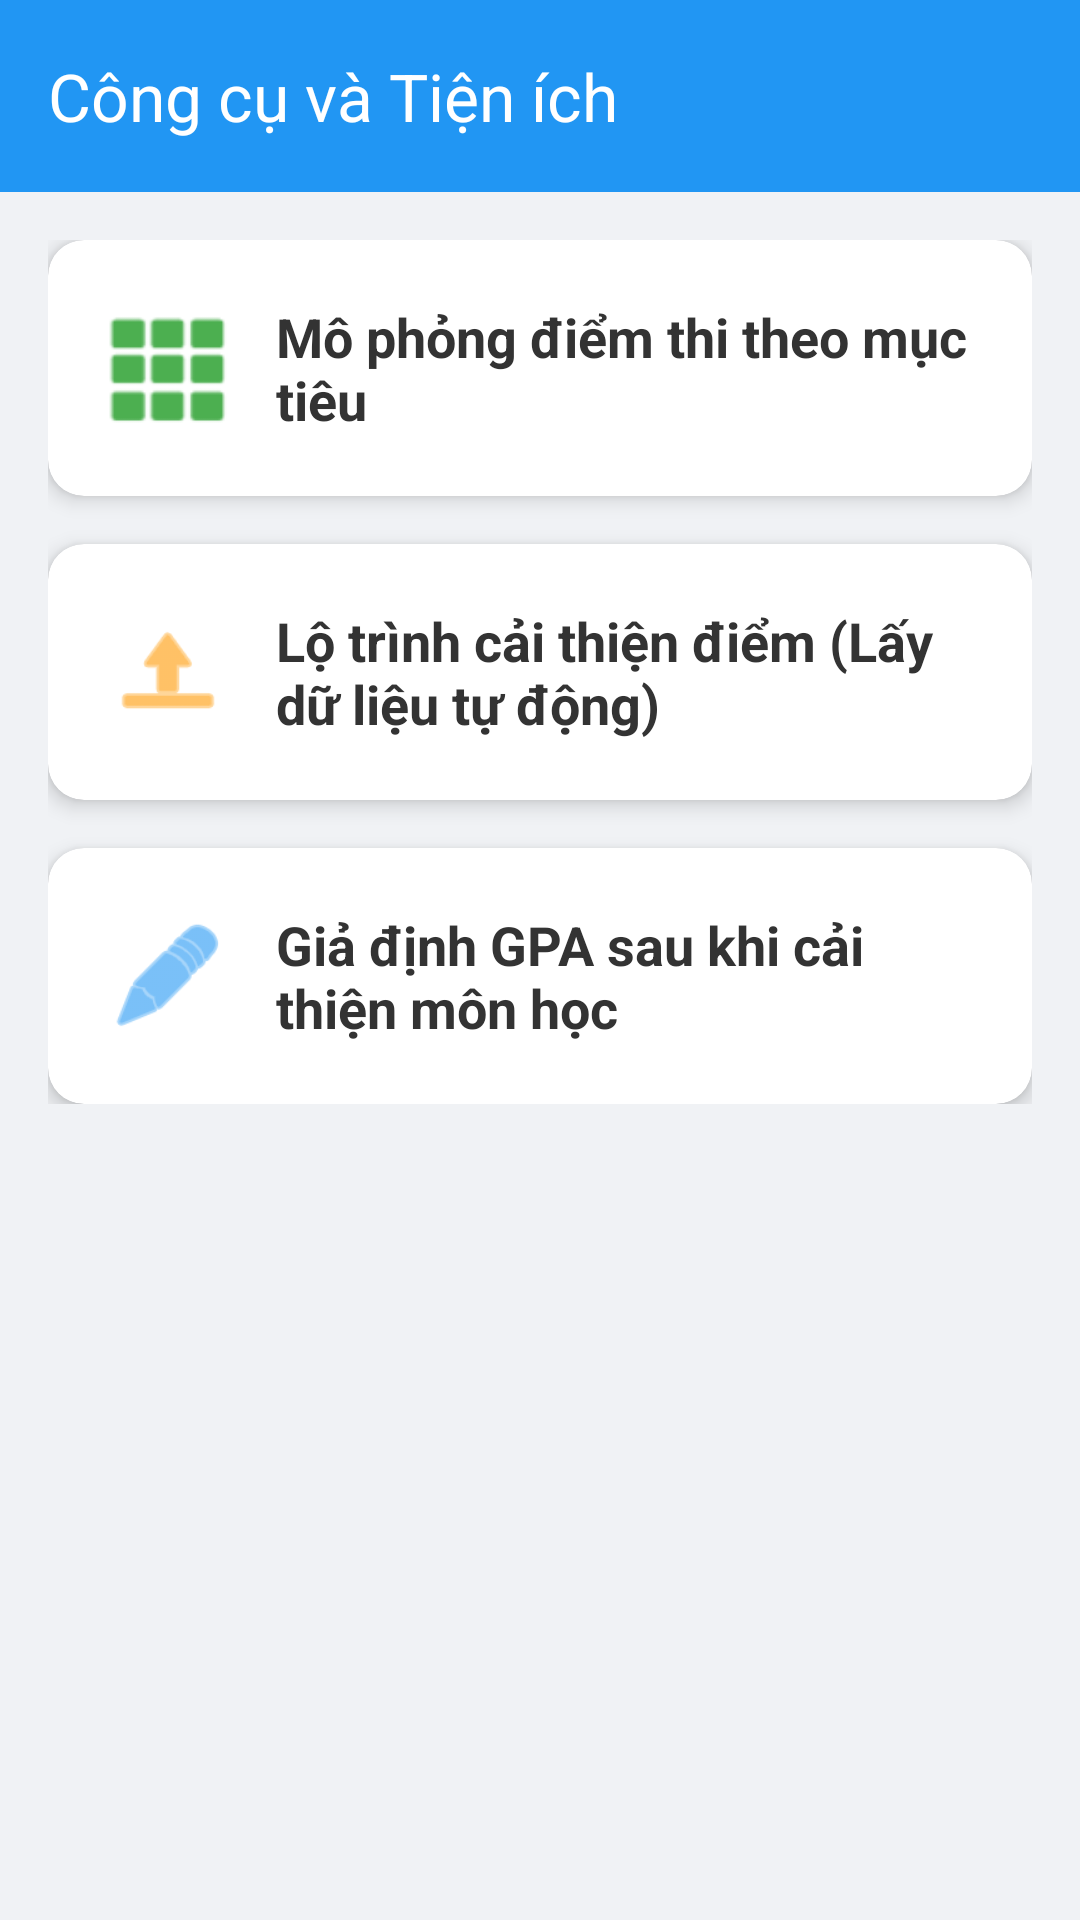

Icons on this 1080px x 1920px Android screen, each with the point to tap as [x,y]:
dialer: [167,369]
edit: [167,975]
upload: [168,670]
